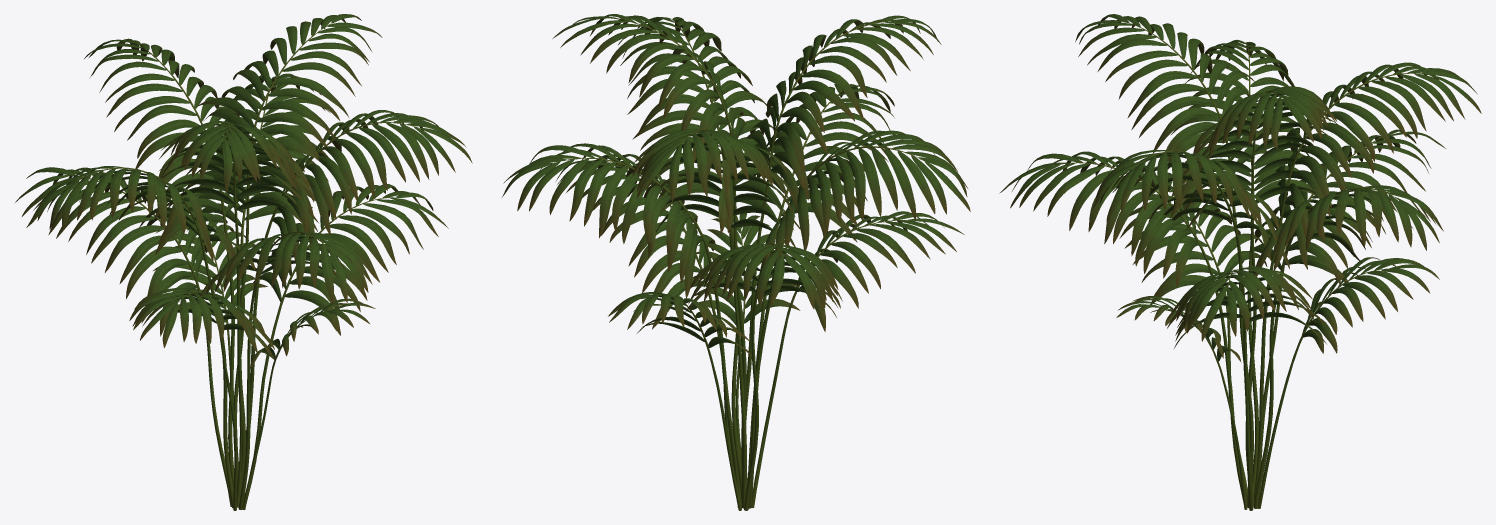
The model's file is howea_f_a001.gltf.
3 views of the same model, side by side, from view 1: azimuth 30°, elevation 25°; view 2: azimuth 150°, elevation 25°; view 3: azimuth 270°, elevation 25° (orthographic). The views are drawn at different scales.
Visible parts, largest first — view 1: Howea_f__A001; view 2: Howea_f__A001; view 3: Howea_f__A001.
Part boxes in pixels (box(x1,y1,x2,y2)): Howea_f__A001: box(15, 14, 472, 510); Howea_f__A001: box(502, 14, 970, 510); Howea_f__A001: box(999, 14, 1481, 510).
Size of the model in its own units: 3.36 by 3.6 by 3.39.
Materials: 2 (2 with a texture image).
